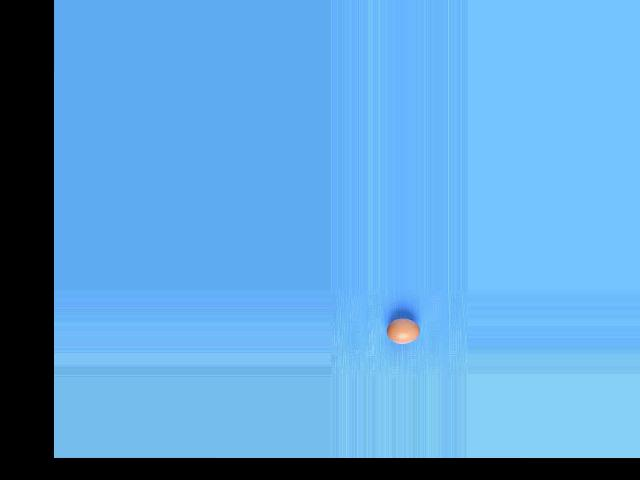egg: (387, 317, 419, 344)
